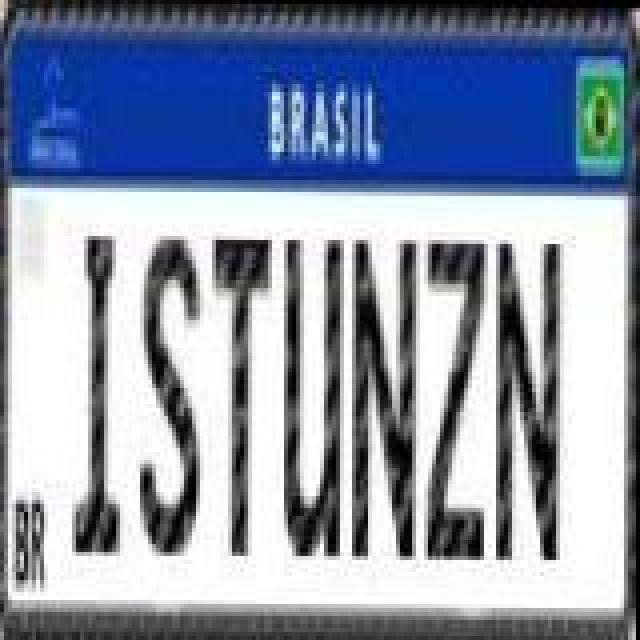I: (76, 226, 128, 562)
N: (492, 236, 560, 560), (354, 234, 418, 558)
S: (142, 232, 206, 556)
T: (212, 232, 272, 556)
U: (284, 234, 344, 558)
Z: (424, 236, 484, 560)
